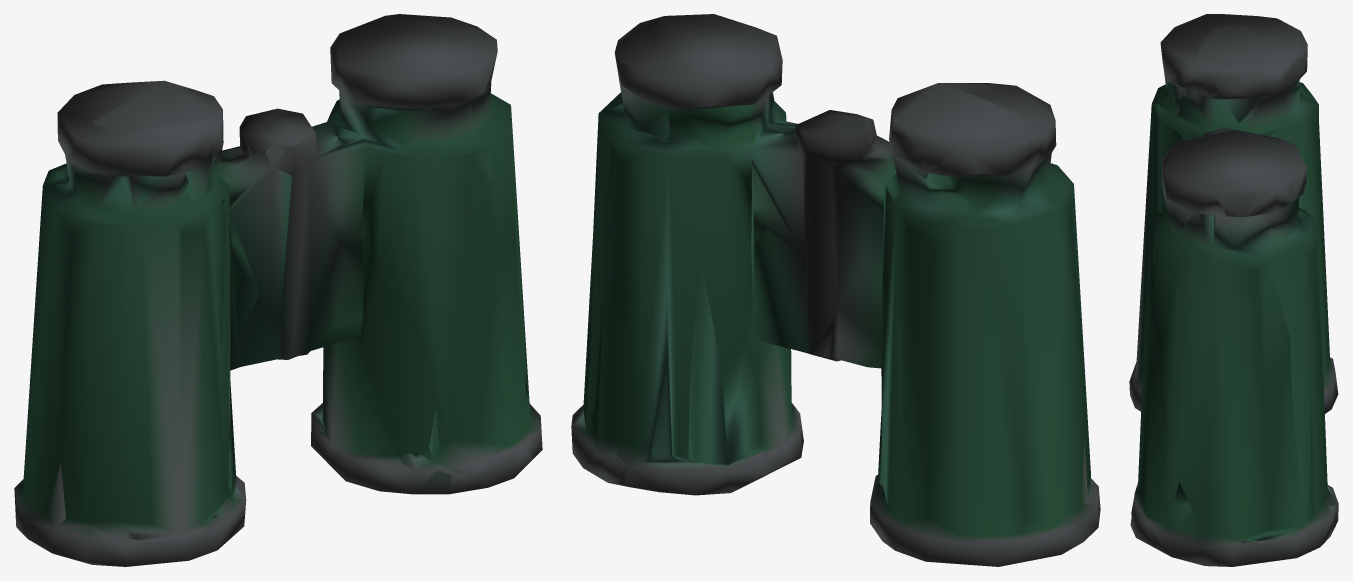
Rendered from gen3d-binocular-lod1.glb.
3 renders of one model, left to right at view 1: azimuth 30°, elevation 25°; view 2: azimuth 150°, elevation 25°; view 3: azimuth 270°, elevation 25°, orthographic. The views are drawn at different scales.
Parts seen in each view (by area): view 1: part_0; view 2: part_0; view 3: part_0.
Boxes of the visible parts, x1,y1,x2,y2 form: part_0: (14, 14, 542, 566); part_0: (571, 14, 1100, 566); part_0: (1129, 14, 1338, 566).
Bounding box in the file's own units: 1.28 × 0.9974 × 0.5247.
